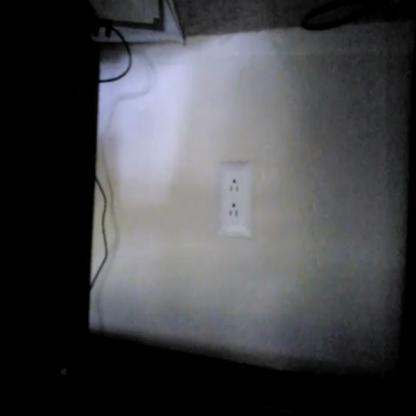OUTLET: (219, 161, 252, 237)
